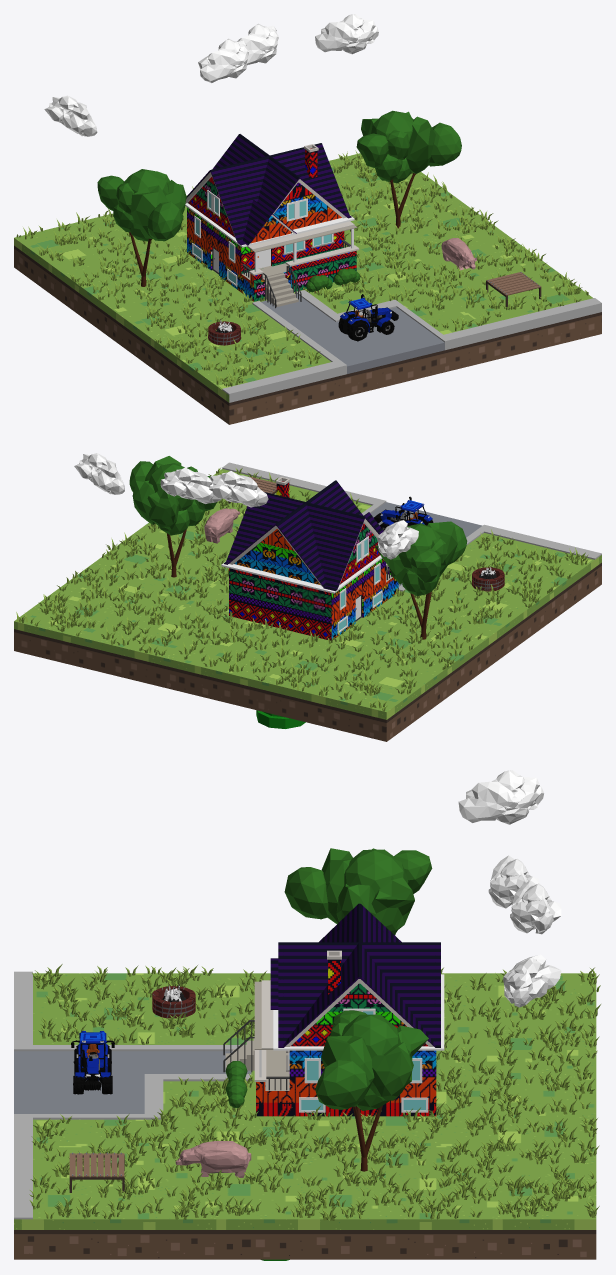
The picture shows the model from 3 angles, top to bottom: view 1: azimuth 30°, elevation 25°; view 2: azimuth 150°, elevation 25°; view 3: azimuth 270°, elevation 25°; orthographic projection. The views are drawn at different scales.
Visible parts, largest first — view 1: Cube.006, Cube.966, Circle.012_Grass_0.192, Cube.007, tree, tree.001, VEHICLES_TRACTOR, Cube.009, ANIMAL_HIPOPOTAMO, OBJRANDOM_CAMPFIRE; view 2: Cube.006, Cube.966, Circle.012_Grass_0.192, Cube.007, tree.001, tree, VEHICLES_TRACTOR, ANIMAL_HIPOPOTAMO, OBJRANDOM_CAMPFIRE, UNDERGROUND_PIPES; view 3: Cube.006, Circle.012_Grass_0.192, Cube.966, tree, Cube.007, tree.001, VEHICLES_TRACTOR, ANIMAL_HIPOPOTAMO, Cube.009, OBJRANDOM_CAMPFIRE.
Part boxes in pixels (bbox=[...]): Cube.006: bbox=[14, 153, 601, 424]; Cube.966: bbox=[185, 134, 359, 308]; Circle.012_Grass_0.192: bbox=[16, 150, 588, 386]; Cube.007: bbox=[44, 14, 378, 136]; tree: bbox=[356, 110, 461, 228]; tree.001: bbox=[97, 169, 186, 286]; VEHICLES_TRACTOR: bbox=[338, 294, 398, 341]; Cube.009: bbox=[486, 272, 541, 306]; ANIMAL_HIPOPOTAMO: bbox=[441, 238, 476, 270]; OBJRANDOM_CAMPFIRE: bbox=[208, 319, 241, 345]; Cube.006: bbox=[14, 462, 601, 741]; Cube.966: bbox=[221, 477, 398, 640]; Circle.012_Grass_0.192: bbox=[16, 468, 588, 711]; Cube.007: bbox=[74, 453, 418, 559]; tree.001: bbox=[375, 521, 467, 639]; tree: bbox=[129, 456, 216, 577]; VEHICLES_TRACTOR: bbox=[374, 496, 433, 530]; ANIMAL_HIPOPOTAMO: bbox=[204, 508, 239, 543]; OBJRANDOM_CAMPFIRE: bbox=[472, 567, 504, 591]; UNDERGROUND_PIPES: bbox=[256, 710, 305, 728]; Cube.006: bbox=[14, 971, 596, 1259]; Circle.012_Grass_0.192: bbox=[29, 964, 600, 1220]; Cube.966: bbox=[223, 903, 444, 1116]; tree: bbox=[315, 1010, 428, 1171]; Cube.007: bbox=[458, 770, 561, 1007]; tree.001: bbox=[284, 848, 432, 935]; VEHICLES_TRACTOR: bbox=[71, 1031, 114, 1094]; ANIMAL_HIPOPOTAMO: bbox=[175, 1141, 251, 1177]; Cube.009: bbox=[69, 1152, 124, 1192]; OBJRANDOM_CAMPFIRE: bbox=[152, 984, 195, 1018].
Bounding box in the file's own units: 4071 × 2759 × 4040.
Materials: 37 (7 with a texture image).
